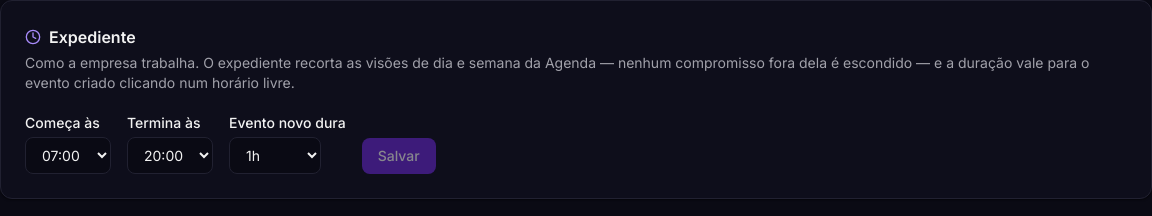
Duração padrão do evento novo › mudar só a duração já habilita o salvar
Select "1h30" in the dropdown labelled "Evento novo dura" at (275, 156), box [229,137,321,174]
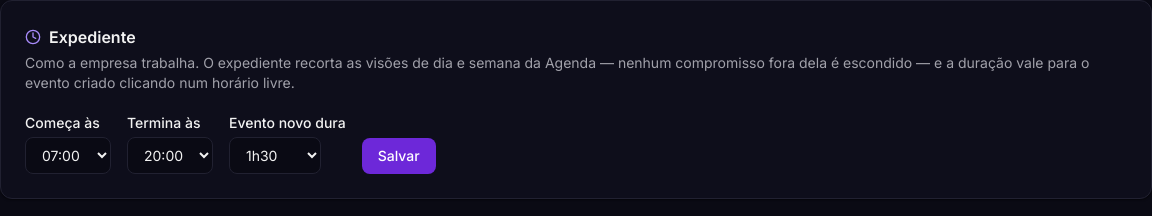
expect the button "Salvar" is enabled: met, box [362,138,436,174]
